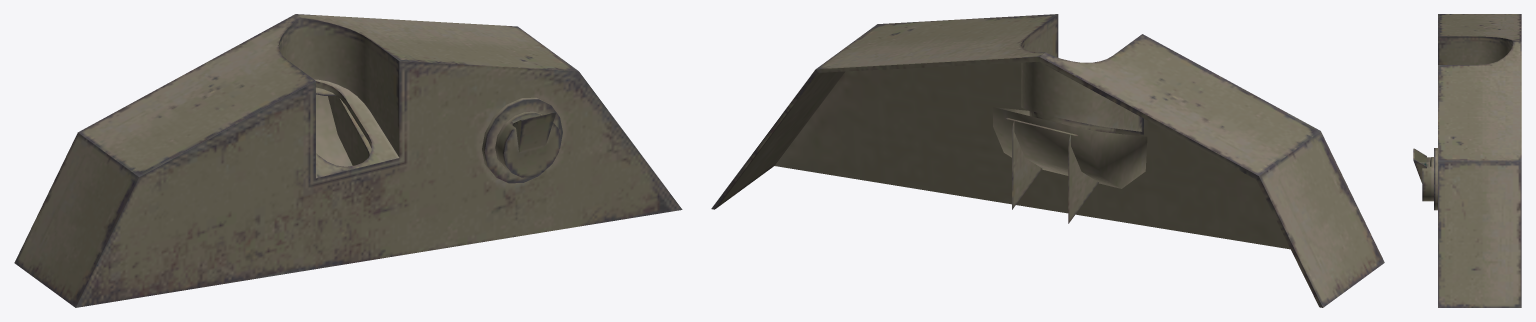
The model's file is Turret_02.glb.
3 views of the same model, side by side, from view 1: azimuth 30°, elevation 25°; view 2: azimuth 150°, elevation 25°; view 3: azimuth 270°, elevation 25° (orthographic). The views are drawn at different scales.
Visible parts, largest first — view 1: set_0_group_0; view 2: set_0_group_0; view 3: set_0_group_0.
Boxes of the visible parts, <box> form: set_0_group_0: <box>14,14,682,307</box>; set_0_group_0: <box>711,14,1384,307</box>; set_0_group_0: <box>1413,14,1521,307</box>.
Size of the model in its own units: 2.62 by 0.9507 by 0.5936.
Materials: 1 (1 with a texture image).
